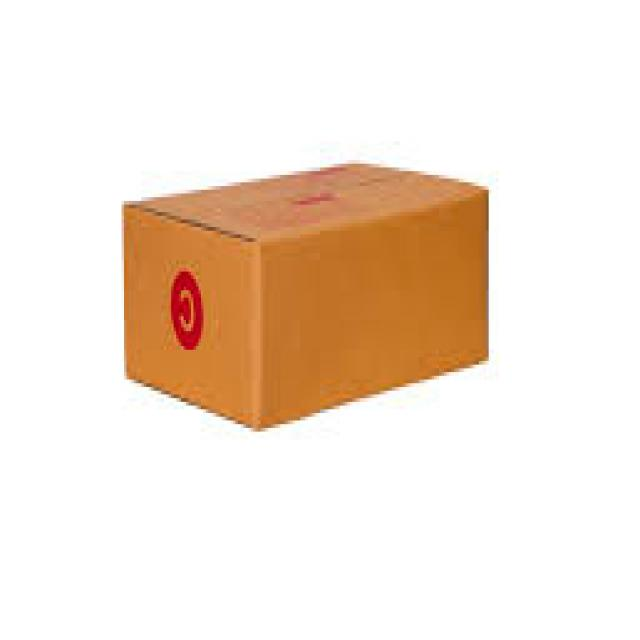box: (102, 126, 507, 438)
